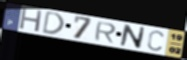7: (73, 15, 94, 41)
C: (146, 30, 166, 52)
D: (41, 10, 66, 35)
H: (18, 7, 44, 33)
N: (119, 24, 147, 50)
R: (93, 21, 118, 44)
